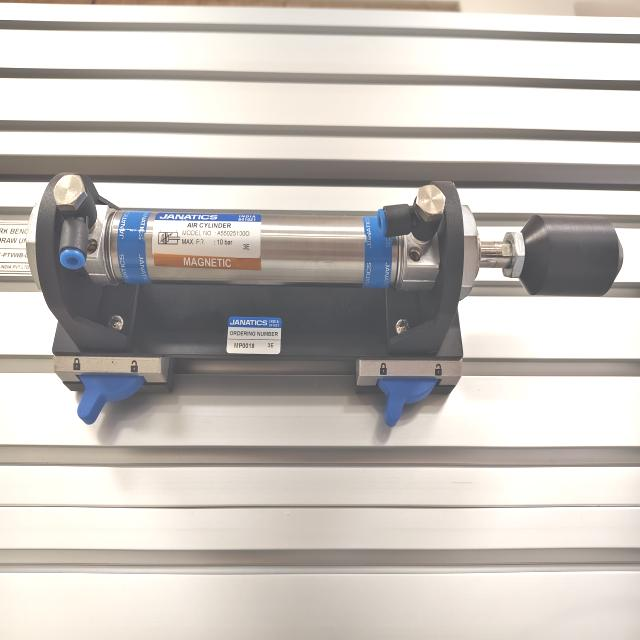double acting pneumatic cylinder: (25, 168, 621, 432)
push button: (25, 170, 623, 427)
